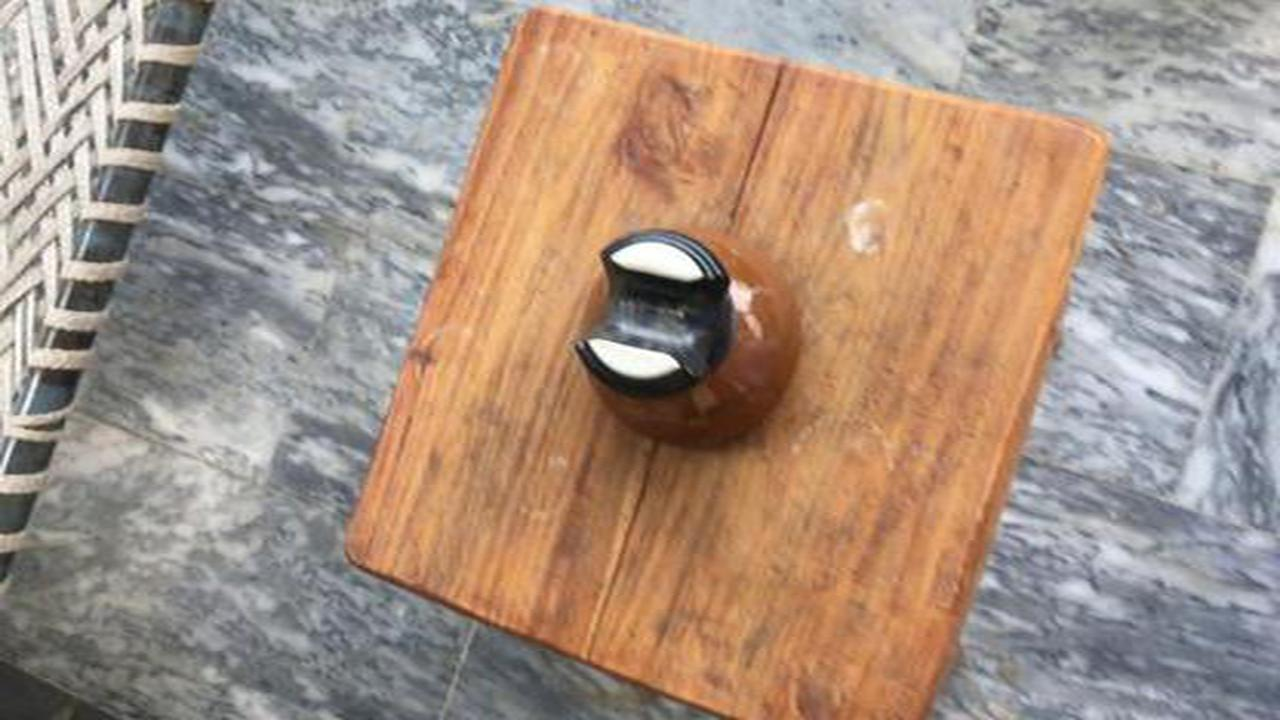insulator_pin: (554, 224, 837, 459)
